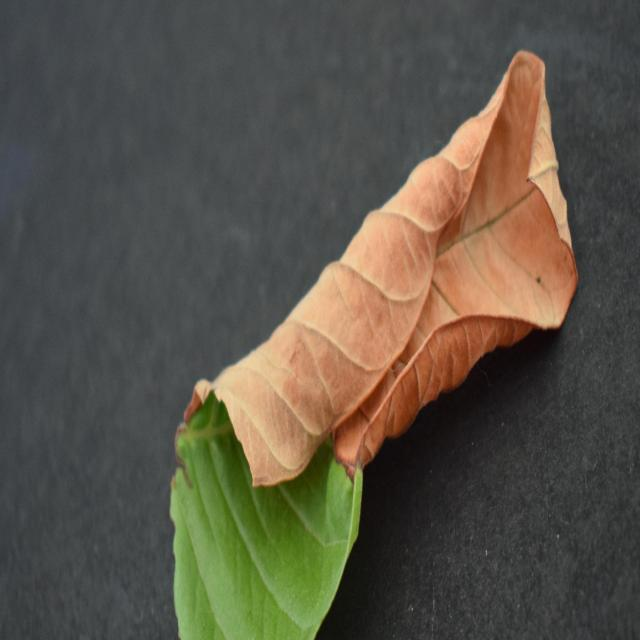Mummification: (171, 52, 578, 638)
